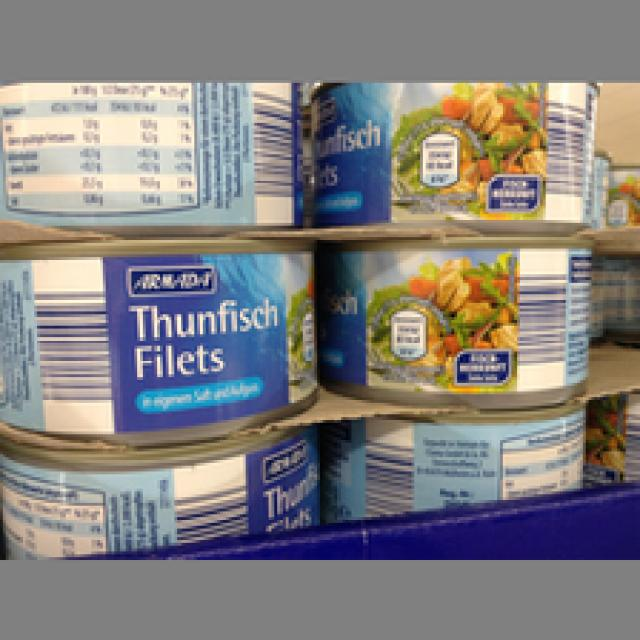groceries: (0, 234, 317, 446), (314, 234, 592, 394), (0, 80, 306, 223), (306, 83, 597, 223), (0, 437, 323, 549), (320, 397, 586, 520)
